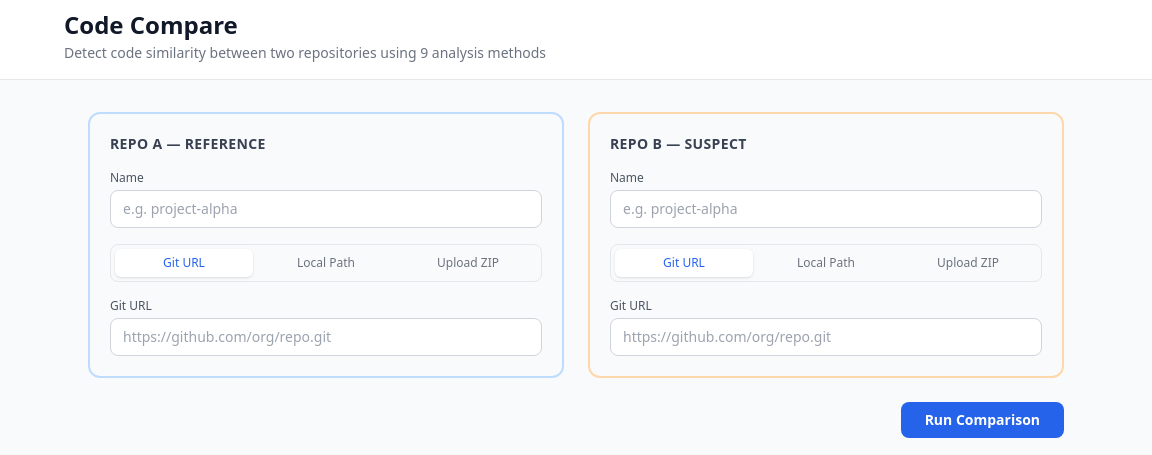
App › shows spinner after submission
Click the button "Run Comparison".
click(982, 420)  # box [901, 402, 1064, 438]
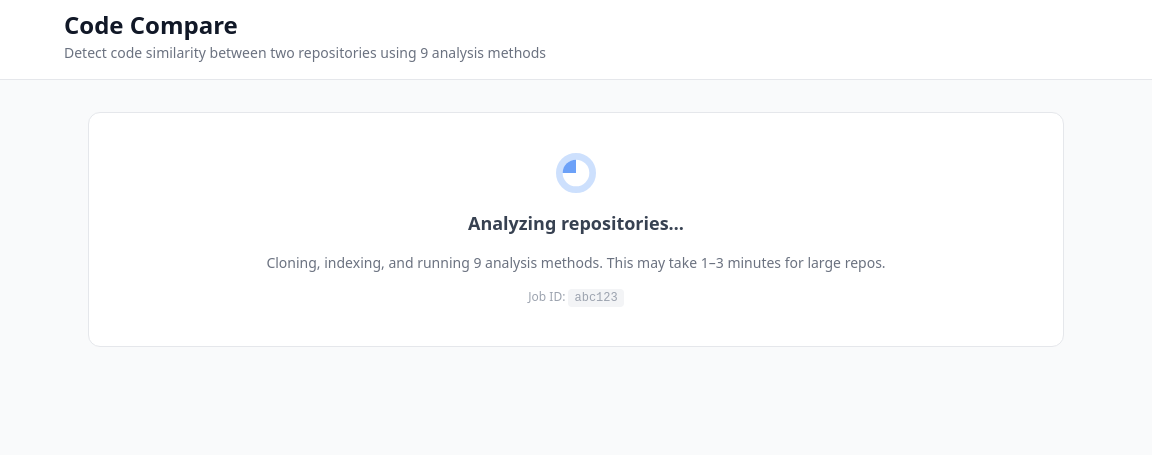
Now the text "Analyzing repositories…" is shown, box [468, 211, 684, 235]
